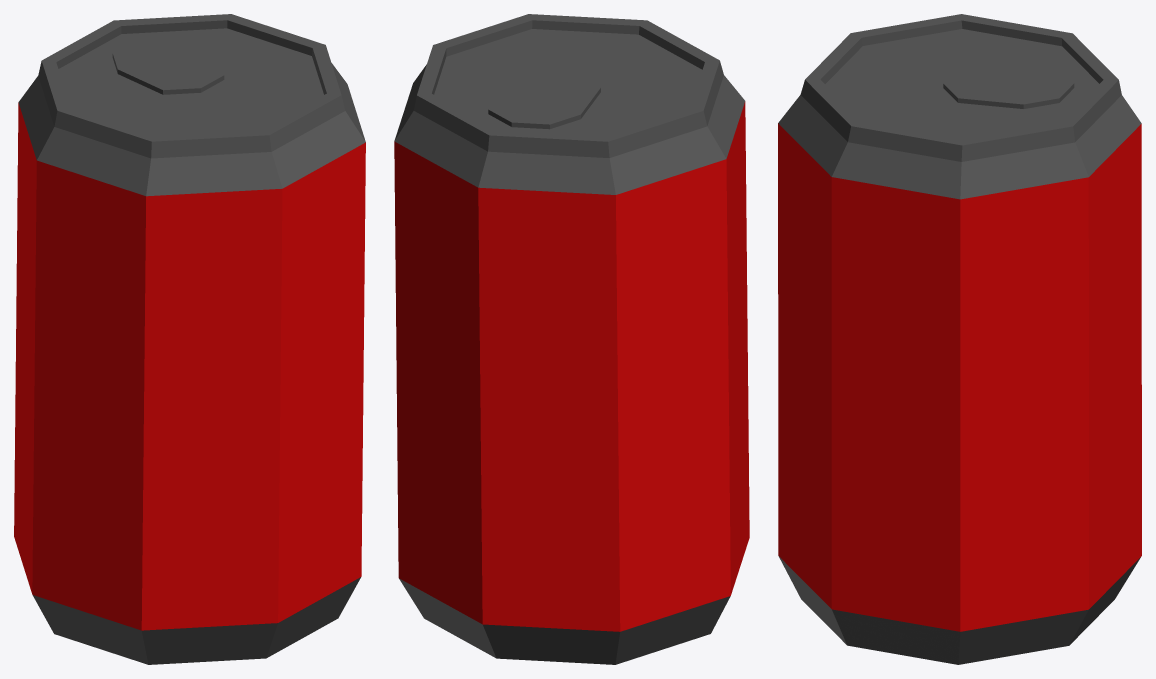
Rendered from Dåse_Rød.fbx.
3 renders of one model, left to right at view 1: azimuth 30°, elevation 25°; view 2: azimuth 150°, elevation 25°; view 3: azimuth 270°, elevation 25°, orthographic.
Visible parts, largest first — view 1: Dåse; view 2: Dåse; view 3: Dåse.
Boxes of the visible parts, left/top/right/bottom form: Dåse: left=14, top=14, right=365, bottom=664; Dåse: left=394, top=14, right=749, bottom=664; Dåse: left=778, top=14, right=1141, bottom=664.
Size of the model in its own units: 13.61 by 21.46 by 13.55.
